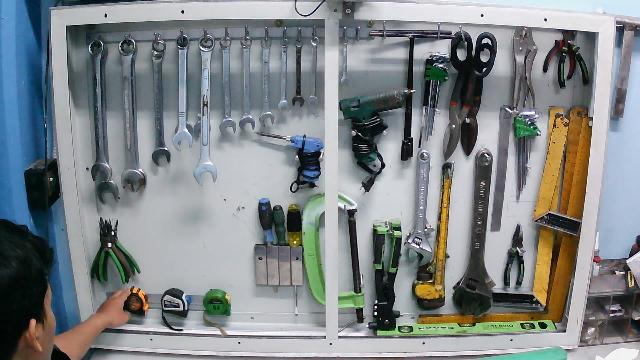meteran: (111, 285, 154, 321)
